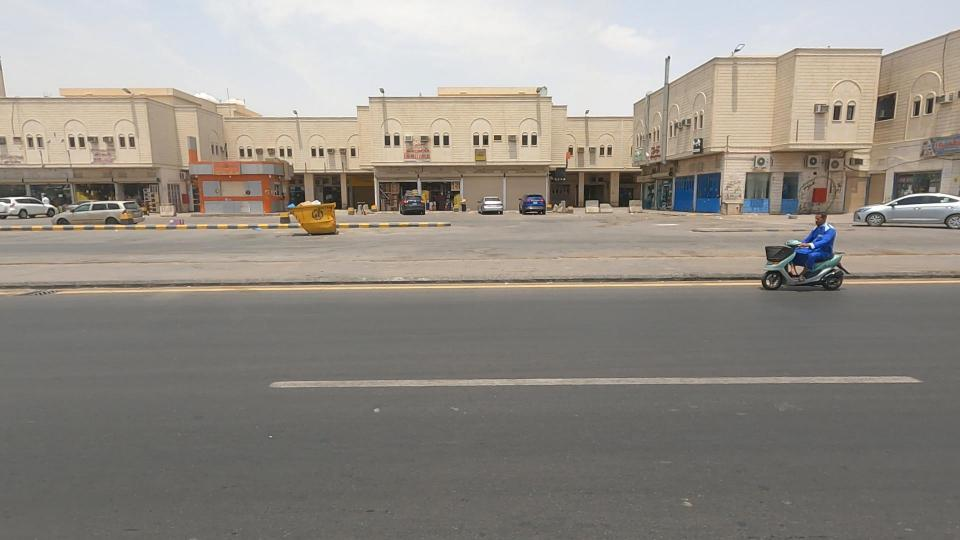BAD_BILLBOARD: (362, 118, 463, 192), (168, 137, 281, 199), (53, 131, 148, 175)
